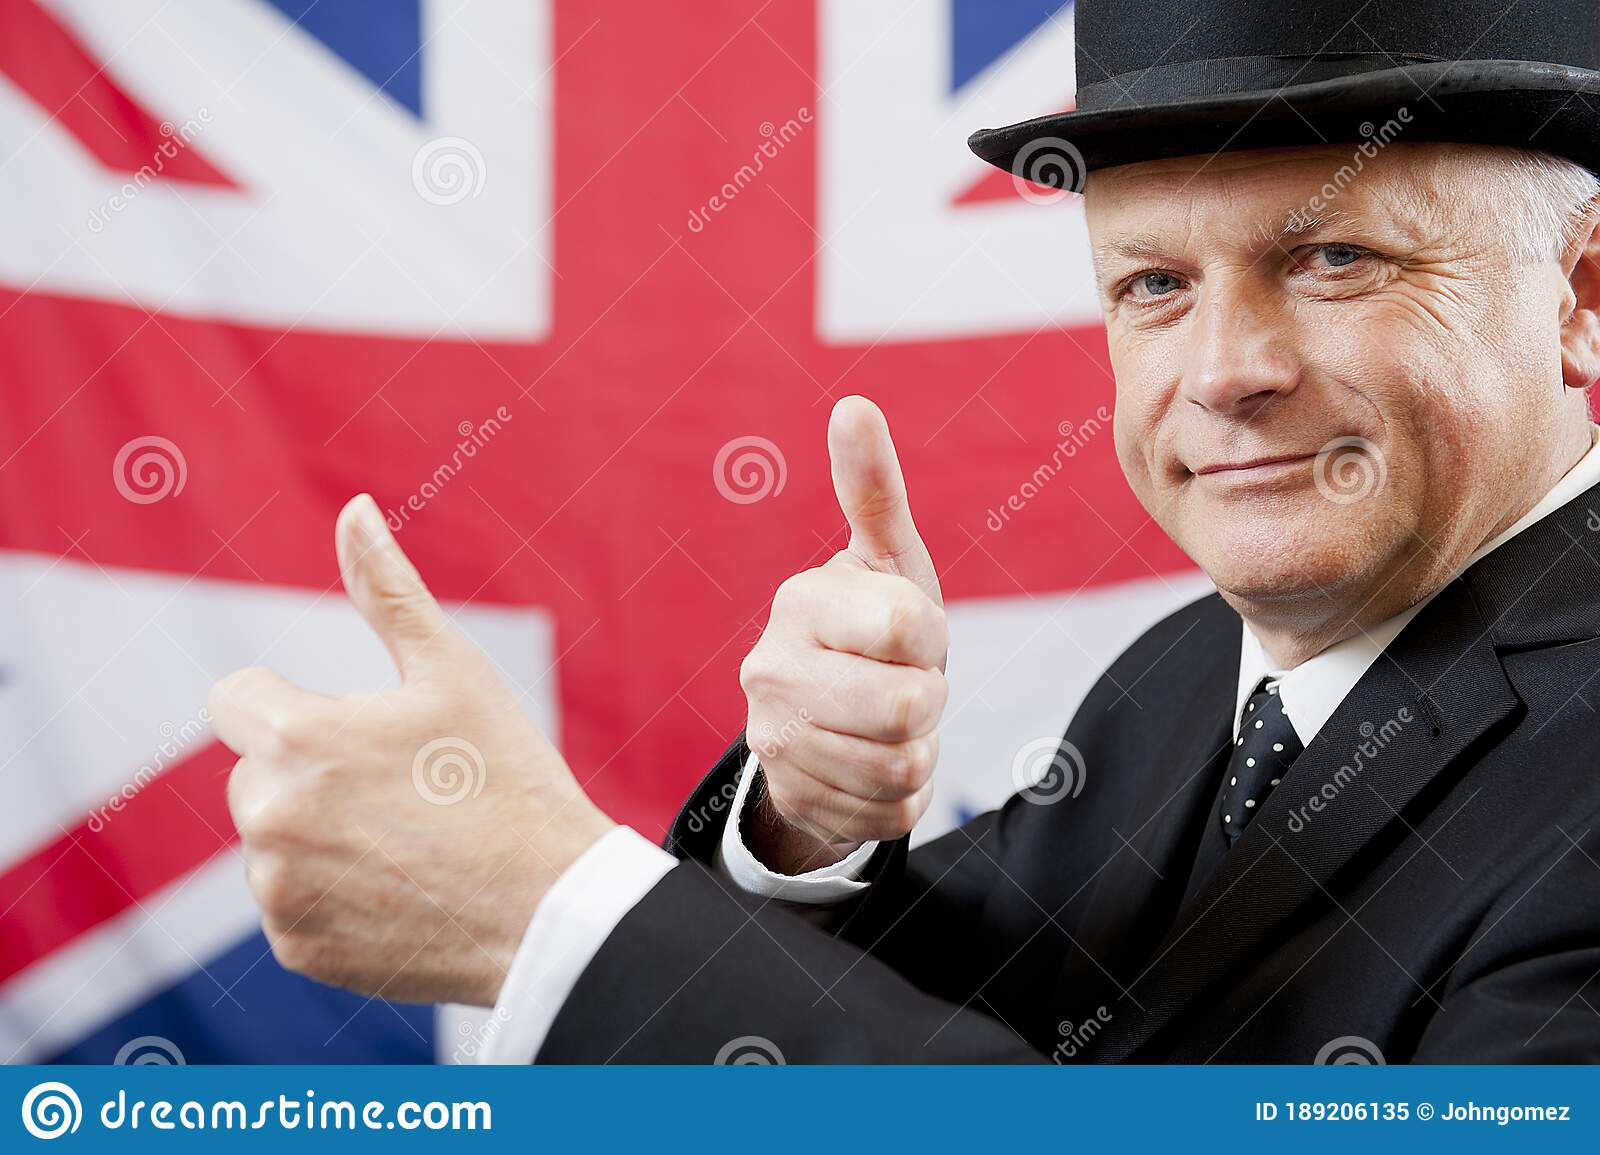thumbsUp: (185, 484, 620, 1028), (713, 378, 979, 863)
